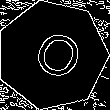O_SW: (21, 22, 84, 88)
